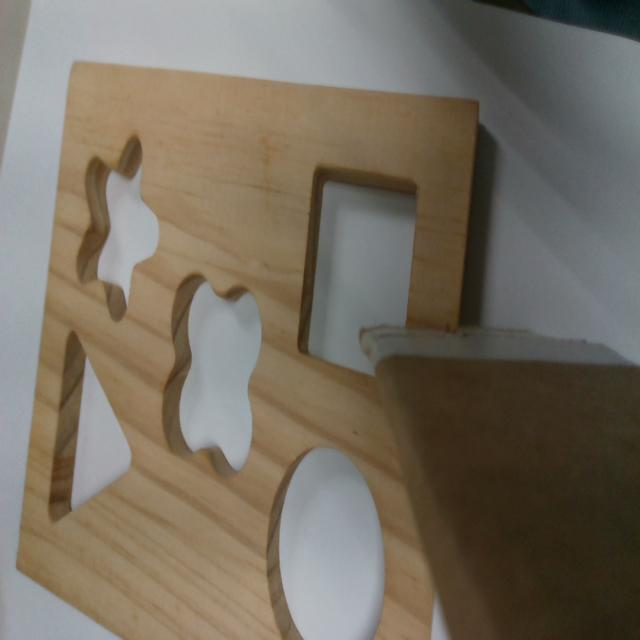circle: (267, 448, 384, 638)
flower: (161, 273, 260, 475)
square: (296, 167, 418, 376)
star: (77, 137, 159, 316)
triangle: (47, 327, 138, 529)
